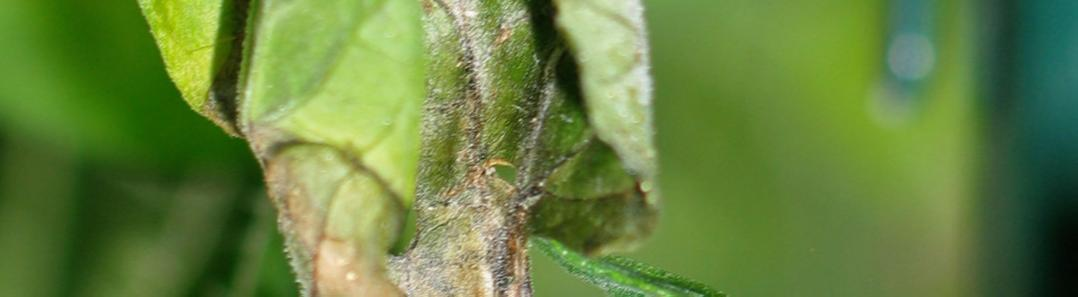Tomato leaf late blight: (0, 0, 724, 297)
